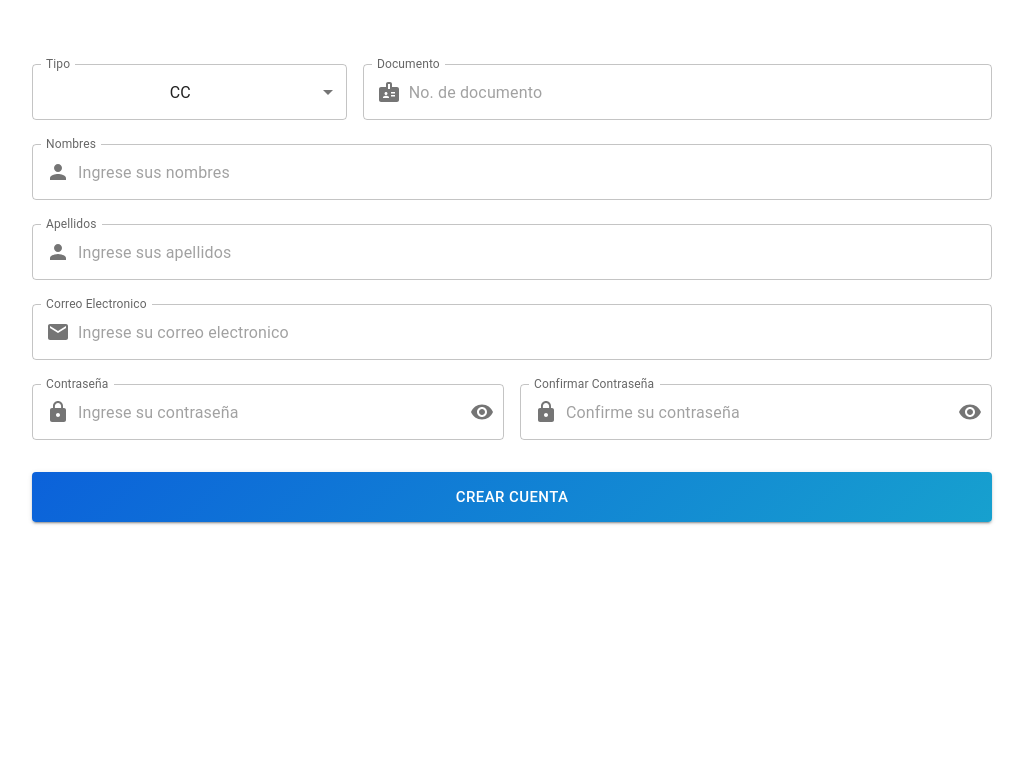
Test case: RegisterForm › Register Flow › displays success message on successful registration
In the field labelled "Documento": (700, 92) [409, 64, 992, 120], type "12345678"
In the field labelled "Nombres": (535, 172) [78, 144, 992, 200], type "Juan"
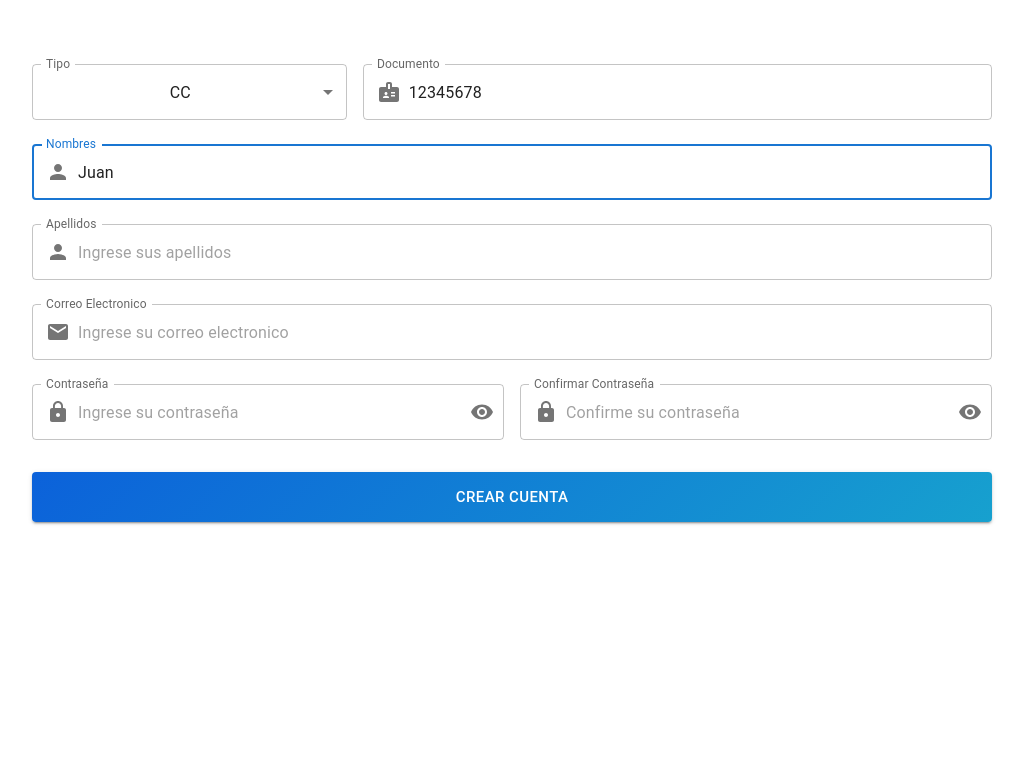
In the field labelled "Apellidos": (535, 252) [78, 224, 992, 280], type "Perez"
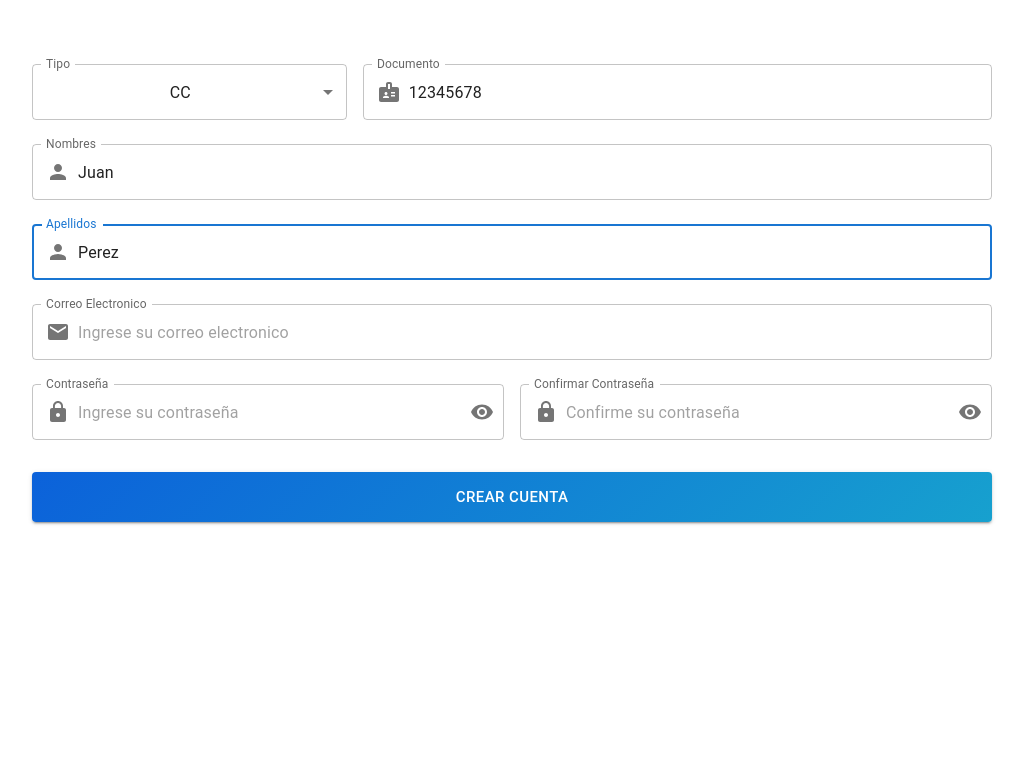
In the field labelled "Correo Electronico": (535, 332) [78, 304, 992, 360], type "juan@test.com"
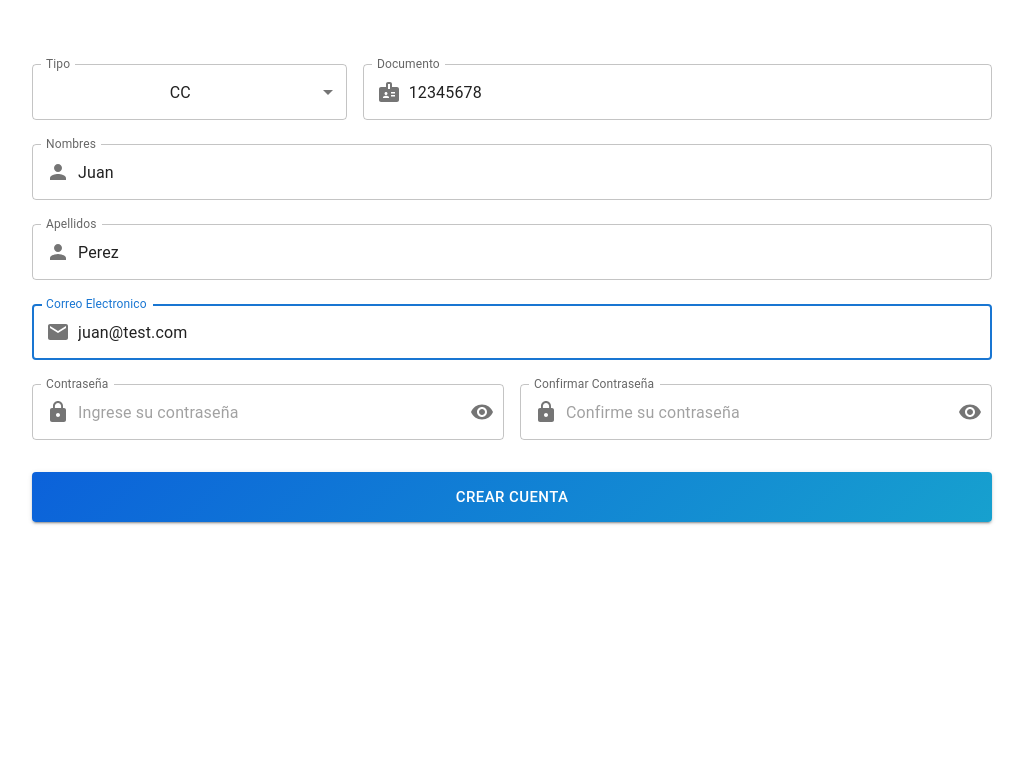
In the password field with placeholder "Ingrese su contraseña": (266, 412) [78, 384, 454, 440], type "Password1"
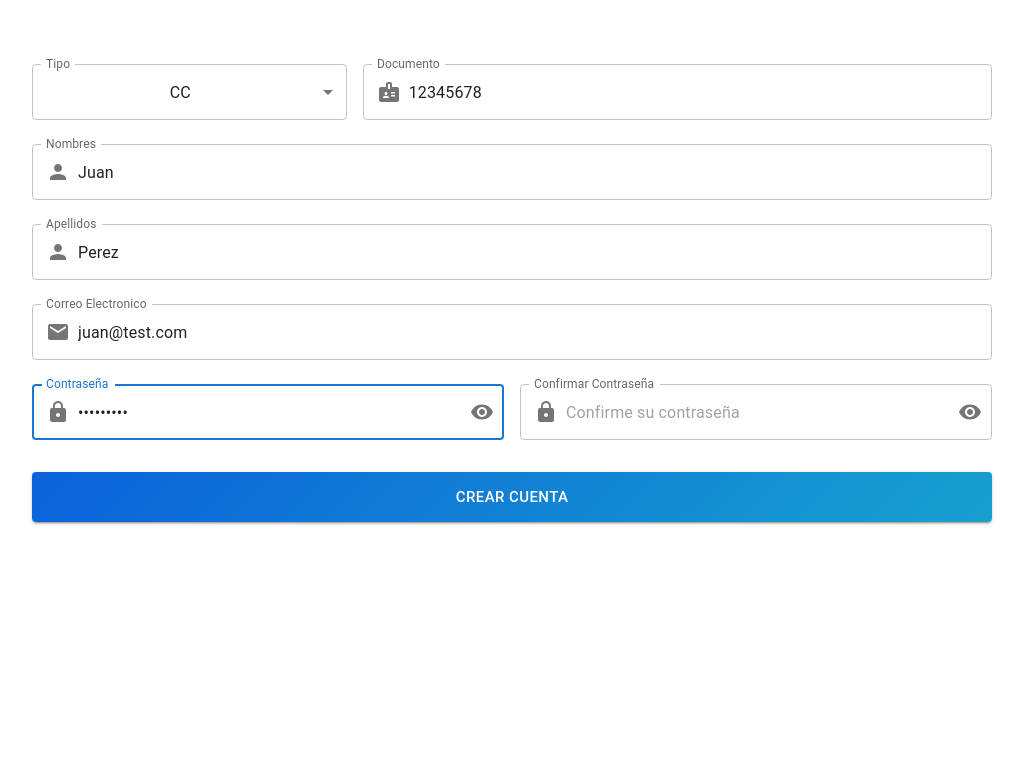
In the password field with placeholder "Confirme su contraseña": (754, 412) [566, 384, 942, 440], type "Password1"
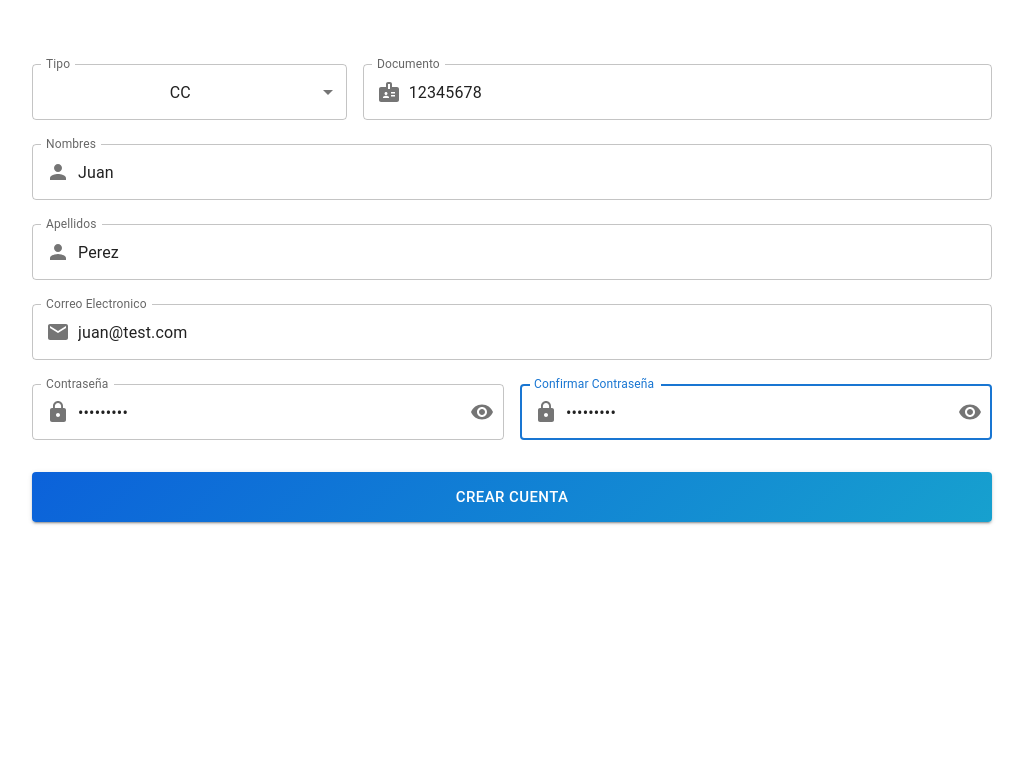
Click the button "Crear Cuenta": (512, 497) [32, 472, 992, 522]
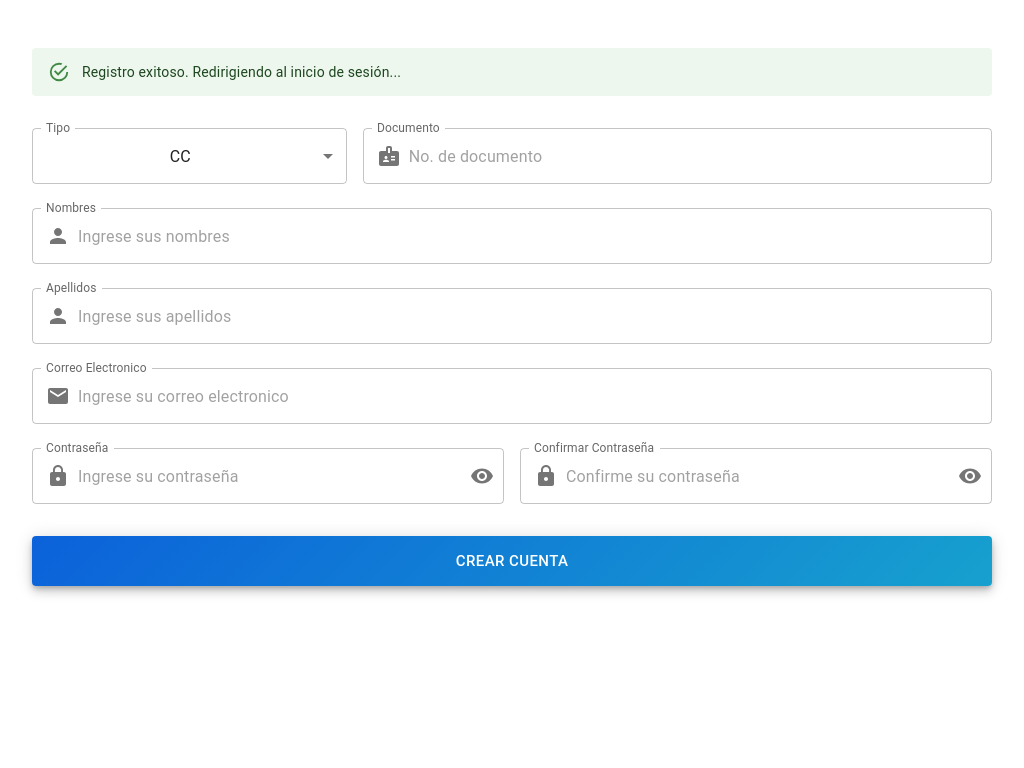
Expected: the text "Registro exitoso. Redirigiendo al inicio de sesión..." is shown, [82, 64, 401, 80]
